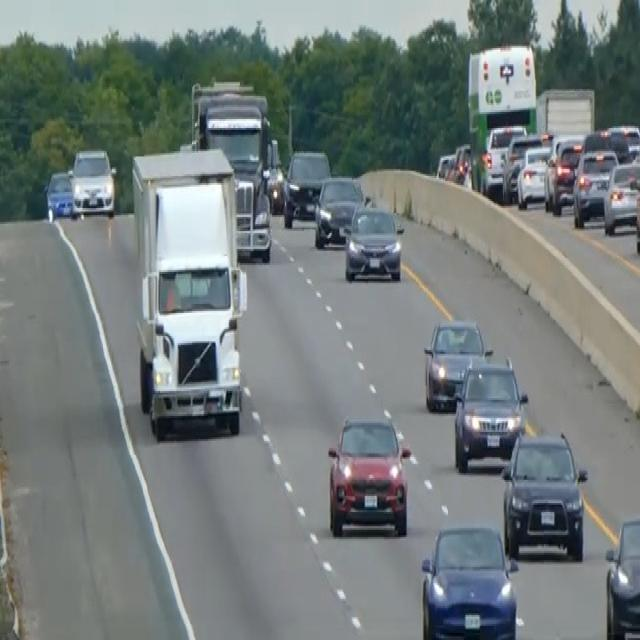bus: (465, 41, 538, 194)
car: (500, 428, 588, 562), (419, 521, 518, 638), (326, 412, 411, 537), (452, 354, 528, 471), (422, 316, 492, 411), (343, 201, 404, 283), (604, 514, 639, 638), (282, 148, 330, 228), (313, 173, 364, 247), (572, 146, 618, 226), (543, 134, 584, 214), (481, 122, 525, 196), (70, 146, 115, 217), (602, 158, 639, 235), (502, 132, 542, 199), (515, 142, 552, 208), (579, 126, 630, 166), (44, 169, 74, 220), (264, 160, 285, 213), (449, 142, 471, 185), (435, 151, 455, 180), (633, 162, 639, 258)
lorry: (130, 144, 248, 441)
